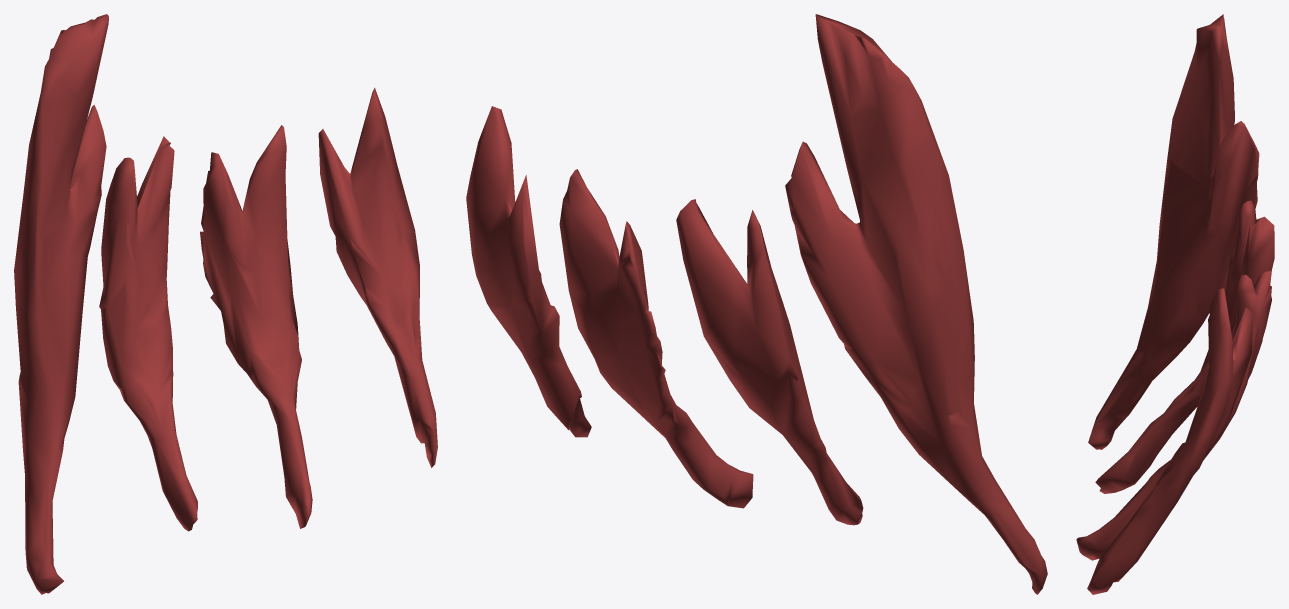
File: dorsal-interossei-muscles-of-hand-r.glb
3 renders of one model, left to right at view 1: azimuth 30°, elevation 25°; view 2: azimuth 150°, elevation 25°; view 3: azimuth 270°, elevation 25°, orthographic. The views are drawn at different scales.
Visible parts, largest first — view 1: Dorsal interossei muscles of hand.r; view 2: Dorsal interossei muscles of hand.r; view 3: Dorsal interossei muscles of hand.r.
Boxes of the visible parts, x1,y1,x2,y2 form: Dorsal interossei muscles of hand.r: (14,14,437,594); Dorsal interossei muscles of hand.r: (466,14,1047,594); Dorsal interossei muscles of hand.r: (1076,14,1274,594).
Size of the model in its own units: 0.064 by 0.0711 by 0.0265.
